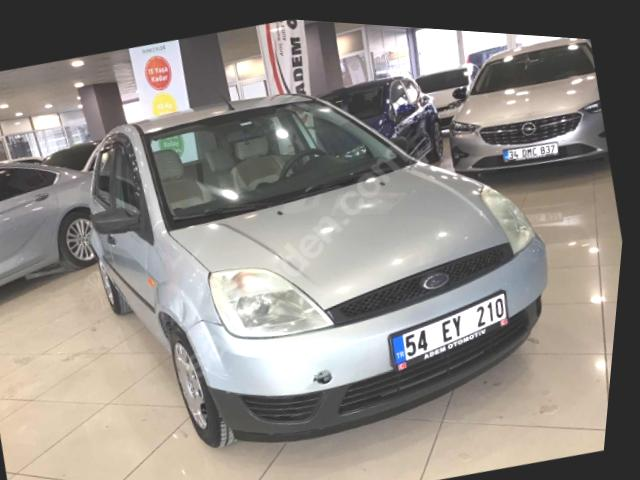plaka: (390, 293, 507, 370)
